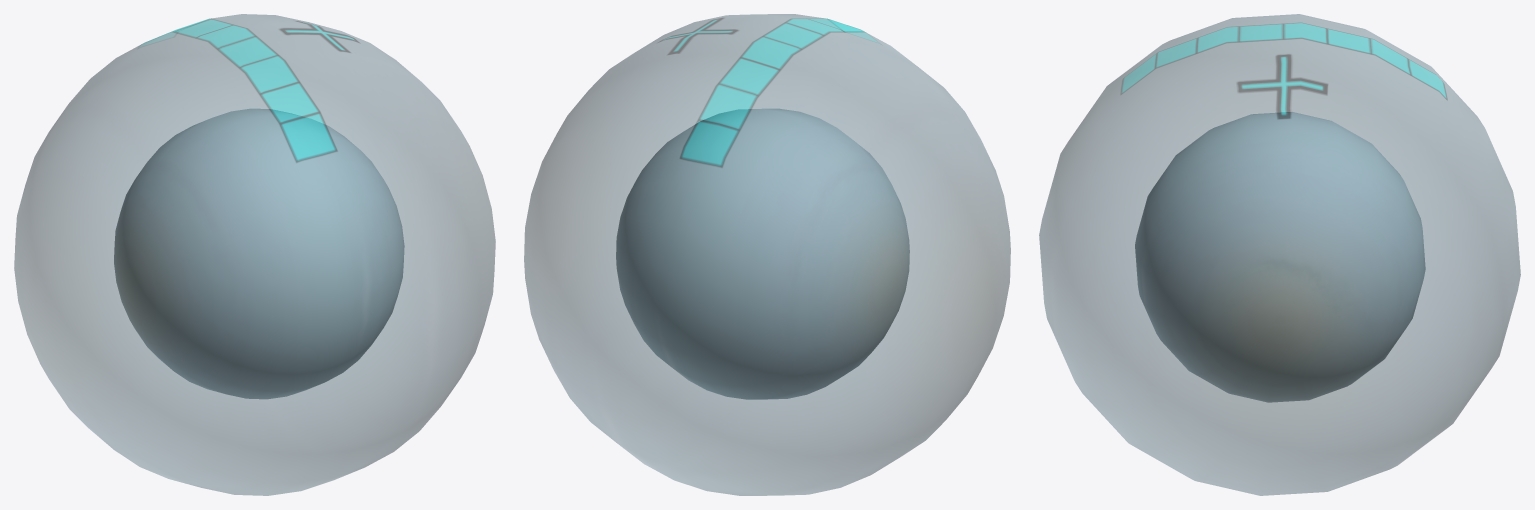
Rendered from Add Row.fbx.
The picture shows the model from 3 angles, left to right: view 1: azimuth 30°, elevation 25°; view 2: azimuth 150°, elevation 25°; view 3: azimuth 270°, elevation 25°; orthographic projection.
Parts seen in each view (by area): view 1: polySurface5; view 2: polySurface5; view 3: polySurface5.
Boxes of the visible parts, bbox=[...] form: polySurface5: bbox=[14, 14, 495, 495]; polySurface5: bbox=[524, 14, 1010, 495]; polySurface5: bbox=[1039, 14, 1520, 495].
Size of the model in its own units: 2 by 1.99 by 1.99.
Materials: 2 (2 with a texture image).
